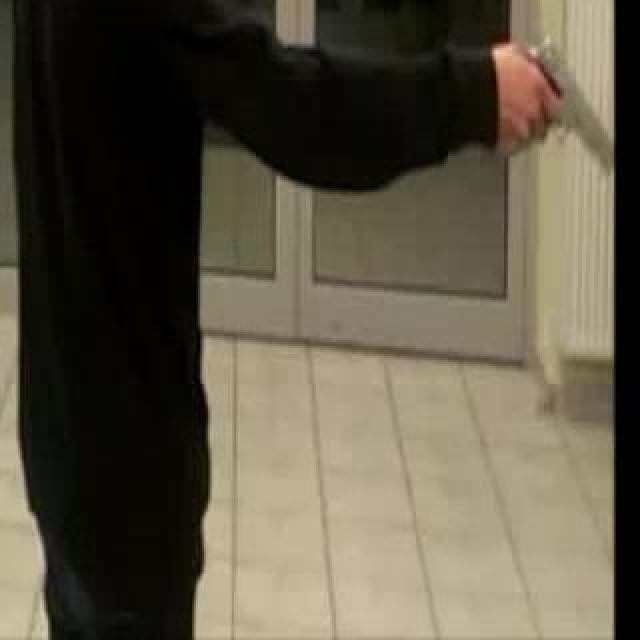Guns: (500, 17, 626, 192)
